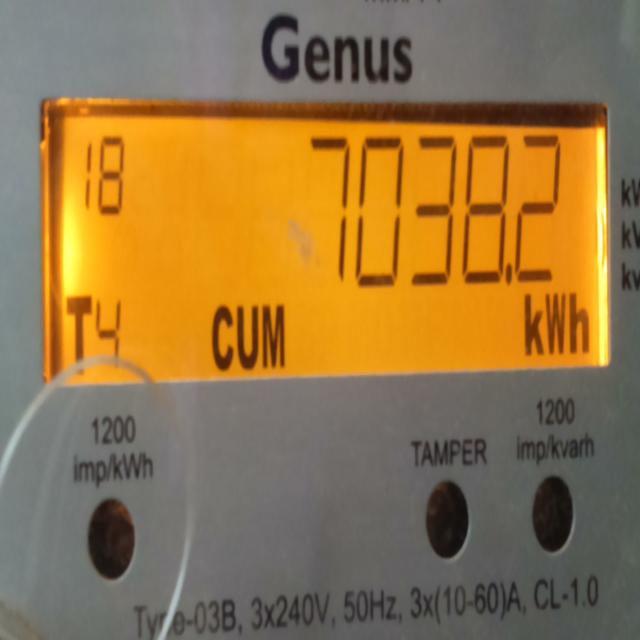.: (502, 250, 516, 292)
0: (354, 126, 410, 297)
1: (78, 137, 98, 215)
2: (515, 129, 567, 293)
3: (411, 132, 460, 292)
7: (306, 127, 354, 290)
8: (460, 129, 509, 289), (94, 135, 135, 217)
